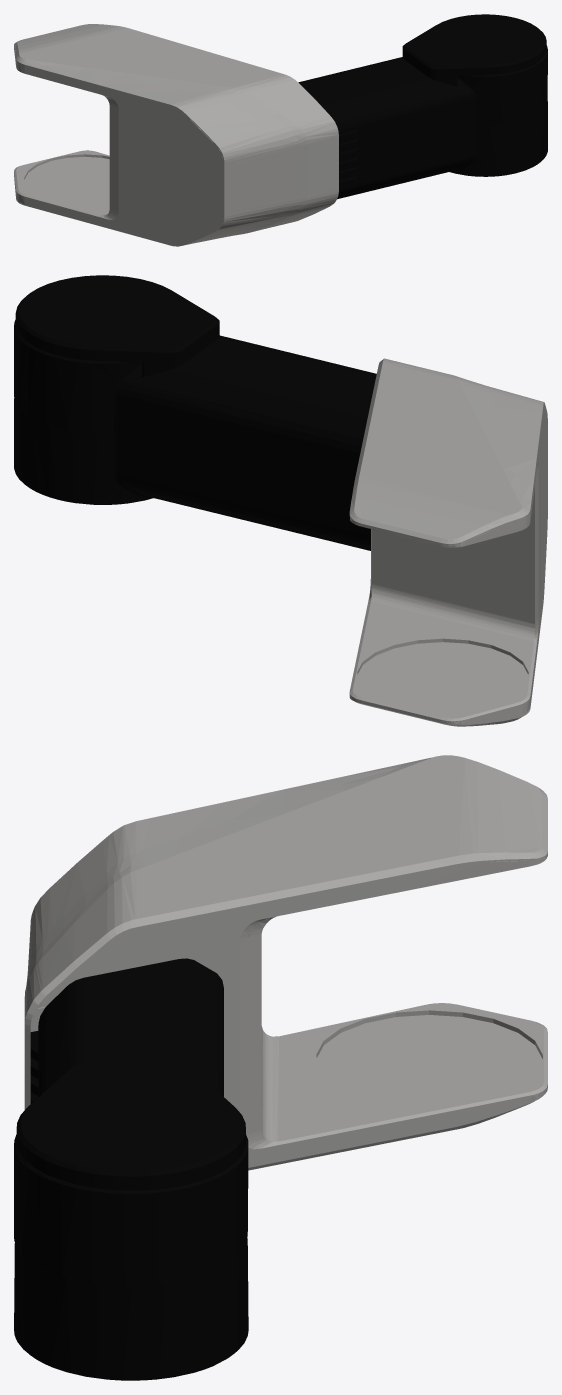
File: left_arm_link3.obj
3 views of the same model, one above another, from view 1: azimuth 30°, elevation 25°; view 2: azimuth 150°, elevation 25°; view 3: azimuth 270°, elevation 25° (orthographic). The views are drawn at different scales.
Visible parts, largest first — view 1: left_arm_link3; view 2: left_arm_link3; view 3: left_arm_link3.
Part boxes in pixels (x1,y1,x2,y2): left_arm_link3: [14, 14, 547, 246]; left_arm_link3: [14, 275, 547, 726]; left_arm_link3: [14, 755, 547, 1380].
Size of the model in its own units: 0.2386 by 0.0764 by 0.1352.
